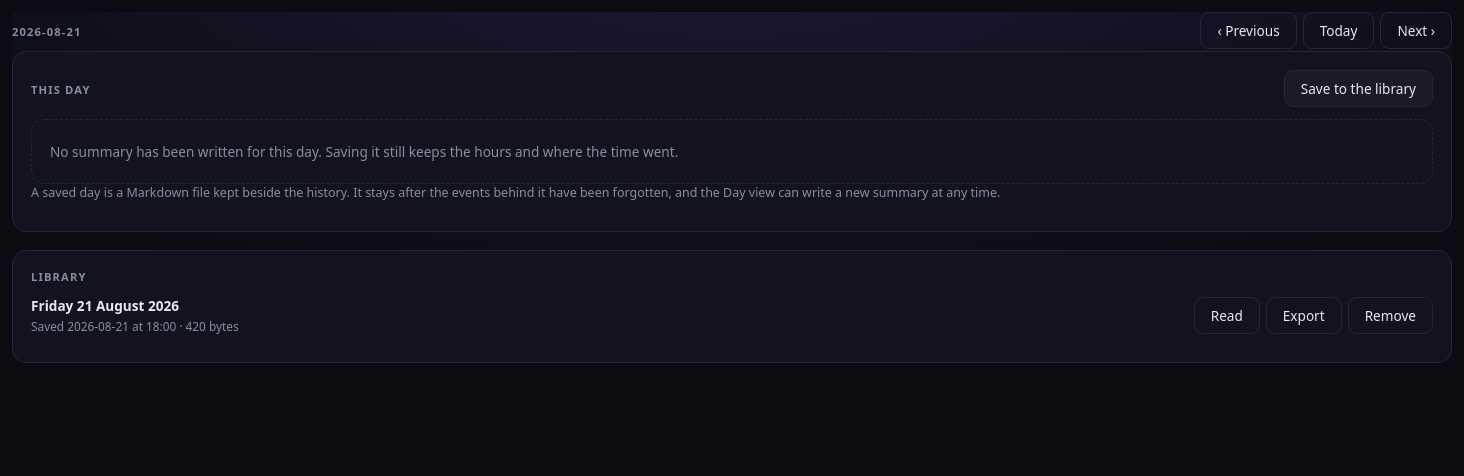
Summary view › asks before it removes a document for good
Click the button "Remove": (1390, 315) [1348, 296, 1433, 334]
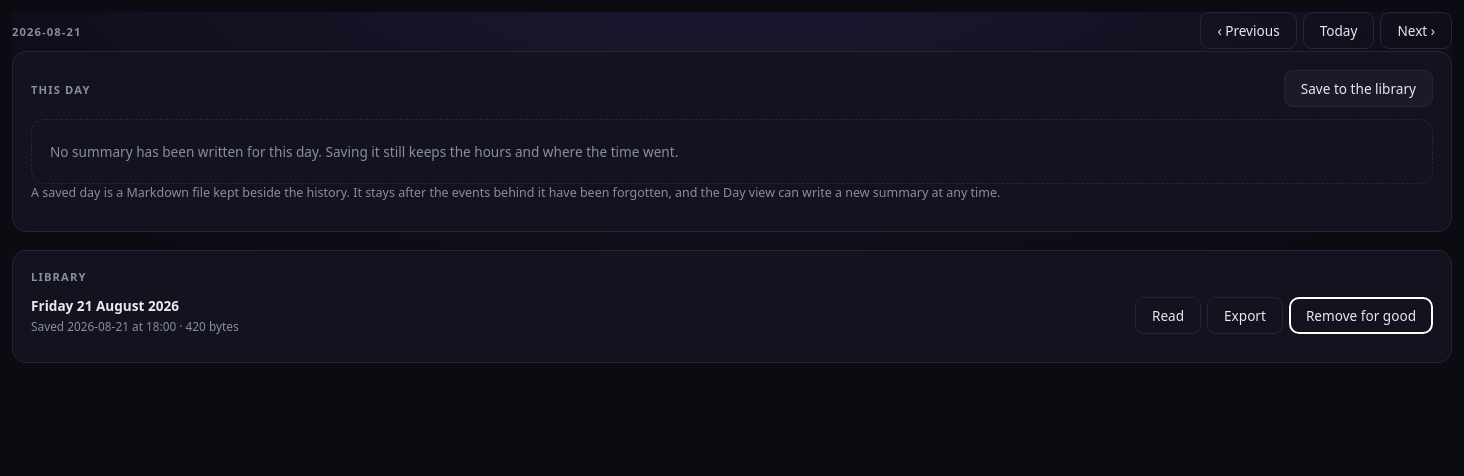
Click the button "Remove for good": (1361, 315) [1289, 296, 1433, 334]
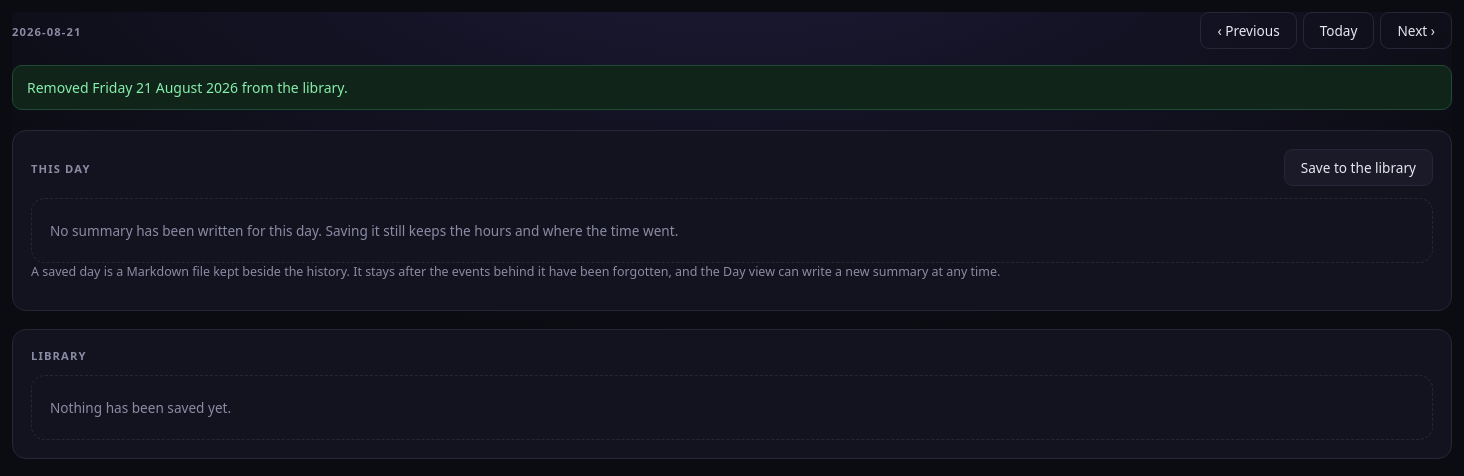
Expected: the text "Nothing has been saved yet." is shown, [31, 375, 1433, 440]
